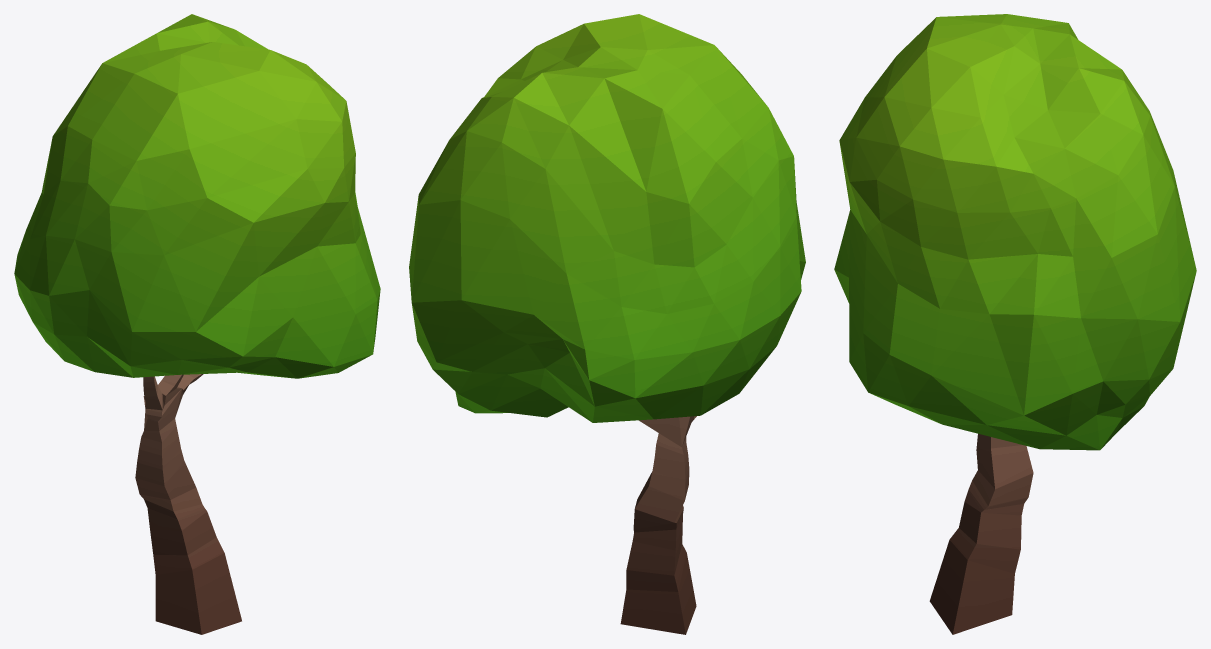
Rendered from Arvore2.fbx.
3 renders of one model, left to right at view 1: azimuth 30°, elevation 25°; view 2: azimuth 150°, elevation 25°; view 3: azimuth 270°, elevation 25°, orthographic. The views are drawn at different scales.
Parts seen in each view (by area): view 1: Arvore2; view 2: Arvore2; view 3: Arvore2.
Part boxes in pixels (x1=…): Arvore2: x1=14, y1=14, x2=380, y2=634; Arvore2: x1=409, y1=14, x2=805, y2=634; Arvore2: x1=834, y1=14, x2=1196, y2=634.
Size of the model in its own units: 752 by 1204 by 670.
